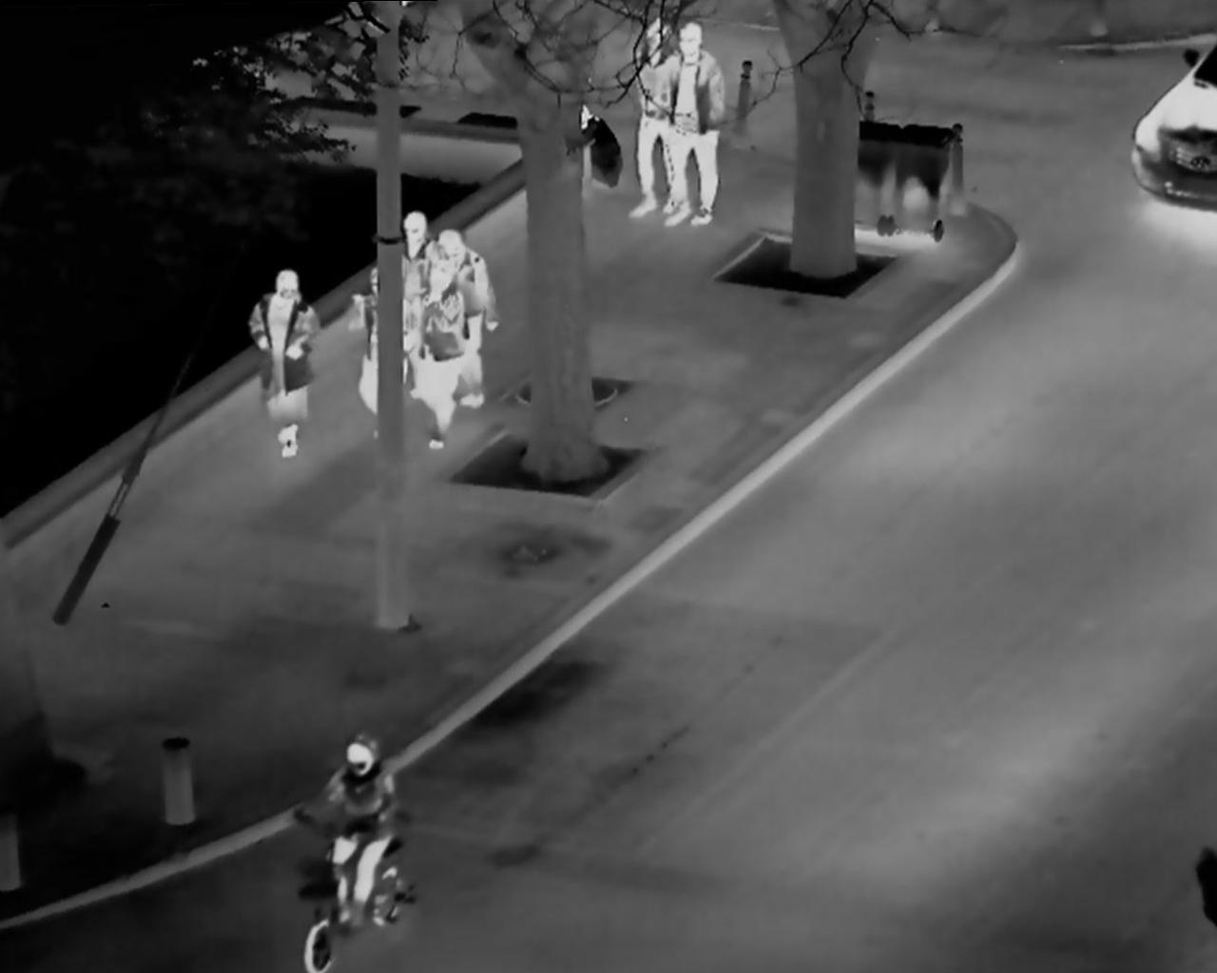person: (292, 723, 429, 950), (237, 252, 321, 465), (414, 254, 486, 451), (668, 16, 725, 235), (438, 225, 496, 408), (628, 9, 676, 220), (389, 200, 442, 360)
